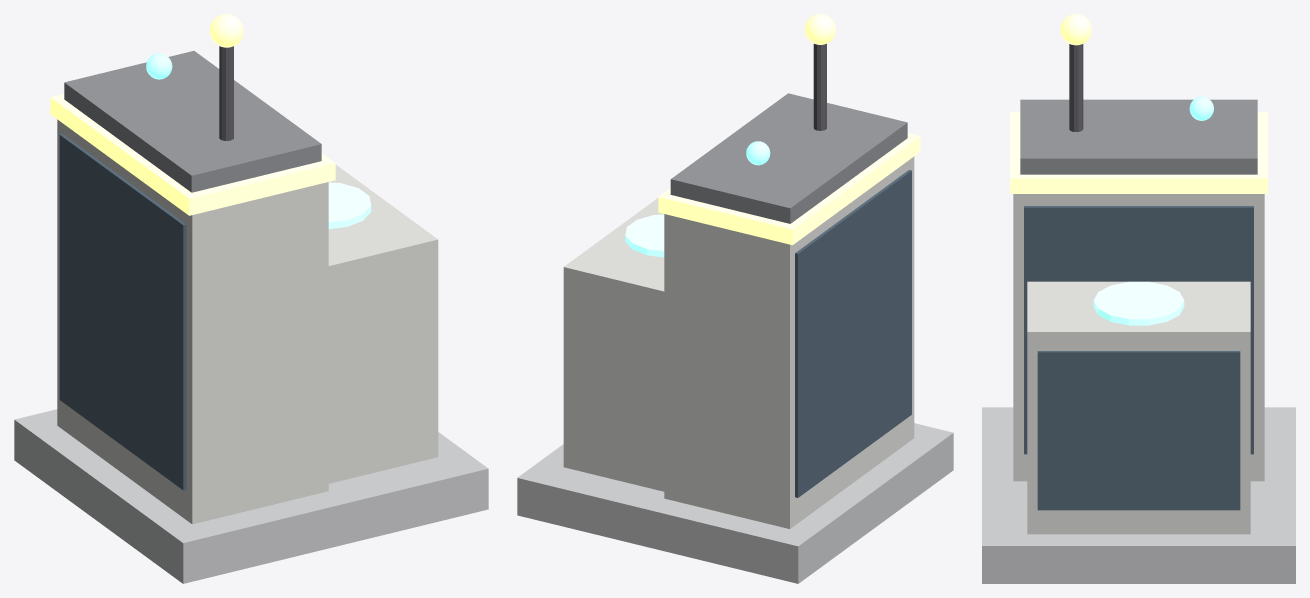
The model's file is venture_tower.glb.
3 renders of one model, left to right at view 1: azimuth 30°, elevation 25°; view 2: azimuth 150°, elevation 25°; view 3: azimuth 270°, elevation 25°, orthographic. The views are drawn at different scales.
Parts seen in each view (by area): view 1: west_wing, west_glass, plaza_base, east_wing, roof_deck, crown_trim, helipad, spire_a, Beacon; view 2: west_wing, west_glass, plaza_base, east_wing, roof_deck, crown_trim, helipad, spire_a, Beacon; view 3: east_glass, plaza_base, east_wing, west_glass, roof_deck, west_wing, crown_trim, helipad, spire_a, Beacon, Beacon2.
Part boxes in pixels (bbox=[...]): west_wing: bbox=[57, 119, 328, 524]; west_glass: bbox=[59, 134, 186, 490]; plaza_base: bbox=[14, 409, 488, 583]; east_wing: bbox=[328, 165, 438, 483]; roof_deck: bbox=[64, 51, 321, 192]; crown_trim: bbox=[50, 94, 335, 215]; helipad: bbox=[328, 182, 371, 229]; spire_a: bbox=[219, 46, 233, 140]; Beacon: bbox=[210, 14, 243, 47]; west_wing: bbox=[664, 156, 914, 528]; west_glass: bbox=[795, 170, 911, 497]; plaza_base: bbox=[517, 423, 953, 583]; east_wing: bbox=[563, 198, 664, 491]; roof_deck: bbox=[670, 93, 907, 223]; crown_trim: bbox=[658, 133, 920, 245]; helipad: bbox=[625, 214, 664, 257]; spire_a: bbox=[813, 43, 826, 130]; Beacon: bbox=[805, 14, 835, 44]; east_glass: bbox=[1037, 351, 1240, 510]; plaza_base: bbox=[982, 407, 1295, 583]; east_wing: bbox=[1027, 281, 1250, 534]; west_glass: bbox=[1024, 206, 1253, 454]; roof_deck: bbox=[1020, 99, 1257, 174]; west_wing: bbox=[1013, 194, 1264, 481]; crown_trim: bbox=[1010, 112, 1267, 193]; helipad: bbox=[1093, 281, 1184, 325]; spire_a: bbox=[1069, 44, 1083, 131]; Beacon: bbox=[1060, 14, 1091, 45]; Beacon2: bbox=[1189, 96, 1213, 120].
Bounding box in the file's own units: 0.94 × 1.5 × 0.9.
